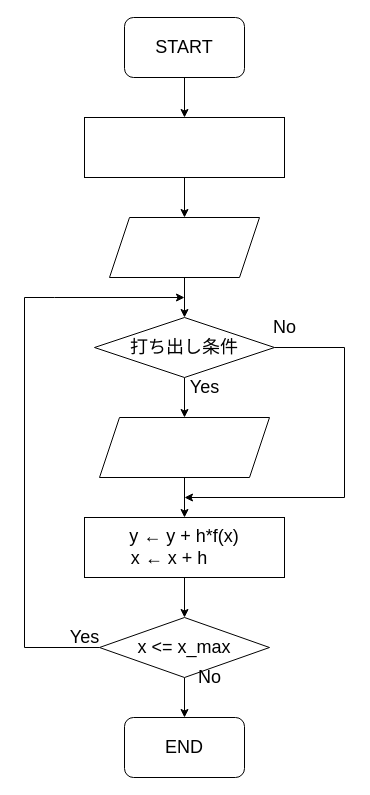
This 370x795 diagram has some shape labels left out. The shapes that lost their labels are listed below. From the top down, each one's box as (x1, y1, x2, y2) in pixels, then its label:
(84, 116, 284, 178): 初期設定
(108, 216, 260, 278): 見出しの打ち出し
(98, 416, 270, 478): 階 x,y 打ち出し
